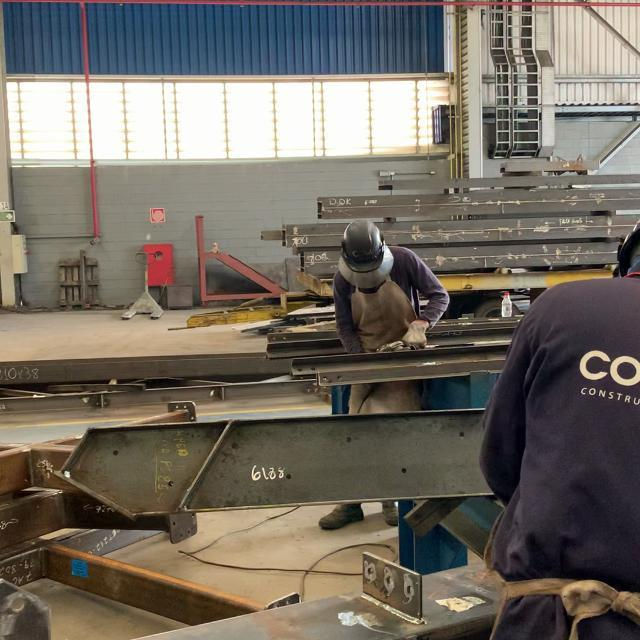eye-glass: (338, 243, 395, 289)
face-shield: (403, 319, 429, 348)
glove: (342, 219, 384, 267), (616, 216, 634, 279)
mask: (479, 212, 637, 636), (334, 218, 449, 348)
